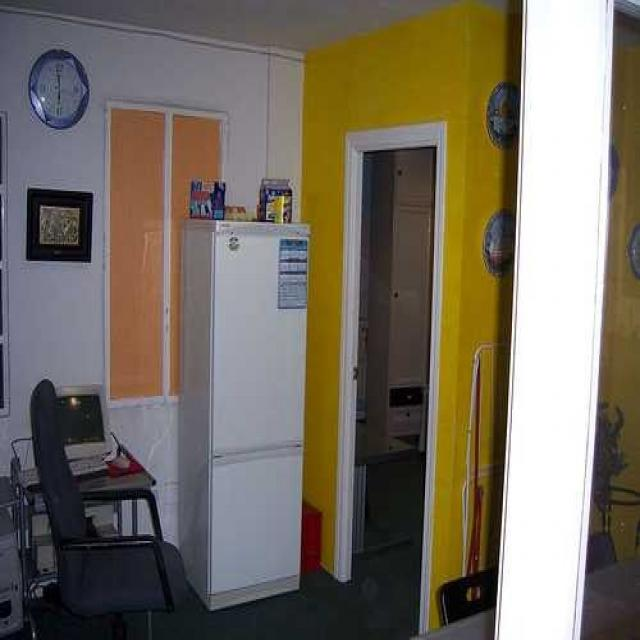refrigerator: (206, 220, 313, 612)
